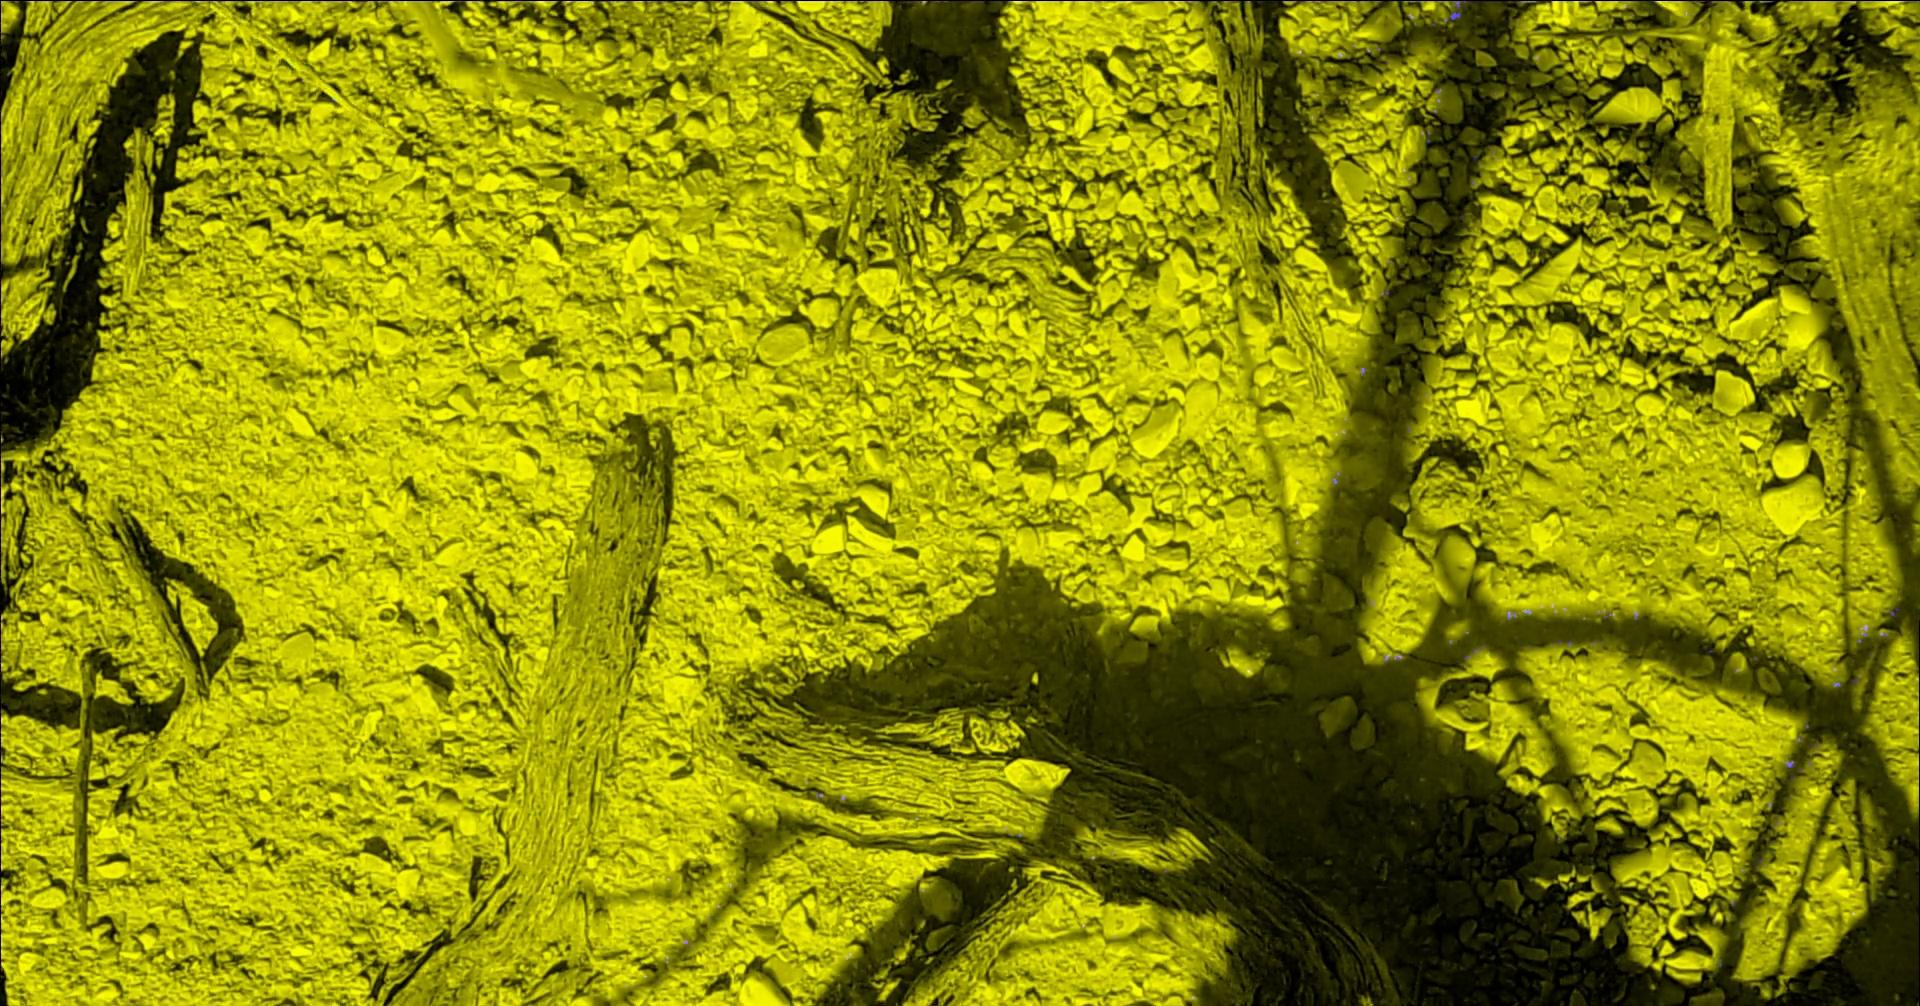ant: (1449, 0, 1470, 20)
